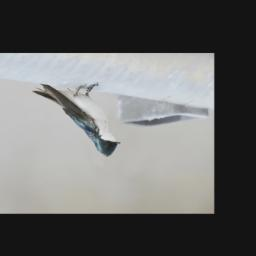Swallow: (31, 80, 122, 159)
